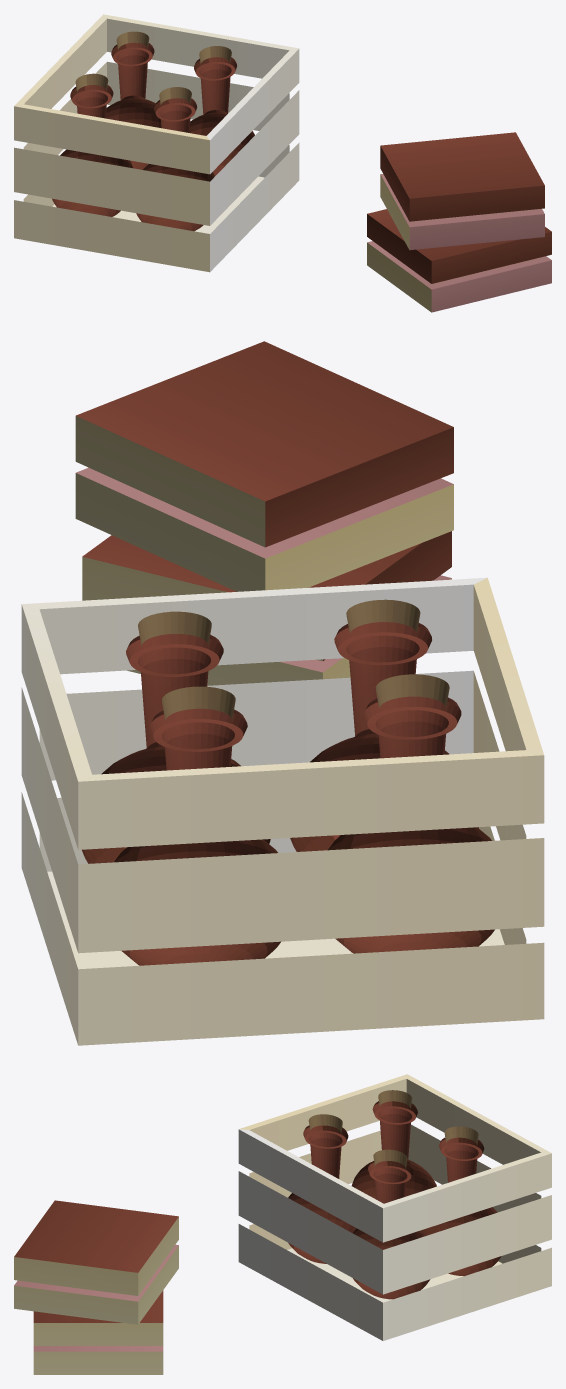
The model's file is props_crafting.glb.
3 renders of one model, top to bottom at view 1: azimuth 30°, elevation 25°; view 2: azimuth 150°, elevation 25°; view 3: azimuth 270°, elevation 25°, orthographic. The views are drawn at different scales.
Visible parts, largest first — view 1: Plane015; view 2: Plane015; view 3: Plane015.
Boxes of the visible parts, x1,y1,x2,y2 form: Plane015: (14, 14, 551, 312); Plane015: (21, 341, 544, 1045); Plane015: (14, 1074, 551, 1374).
Bounding box in the file's own units: 0.6321 × 0.2358 × 0.7951.
Materials: 1 (1 with a texture image).
